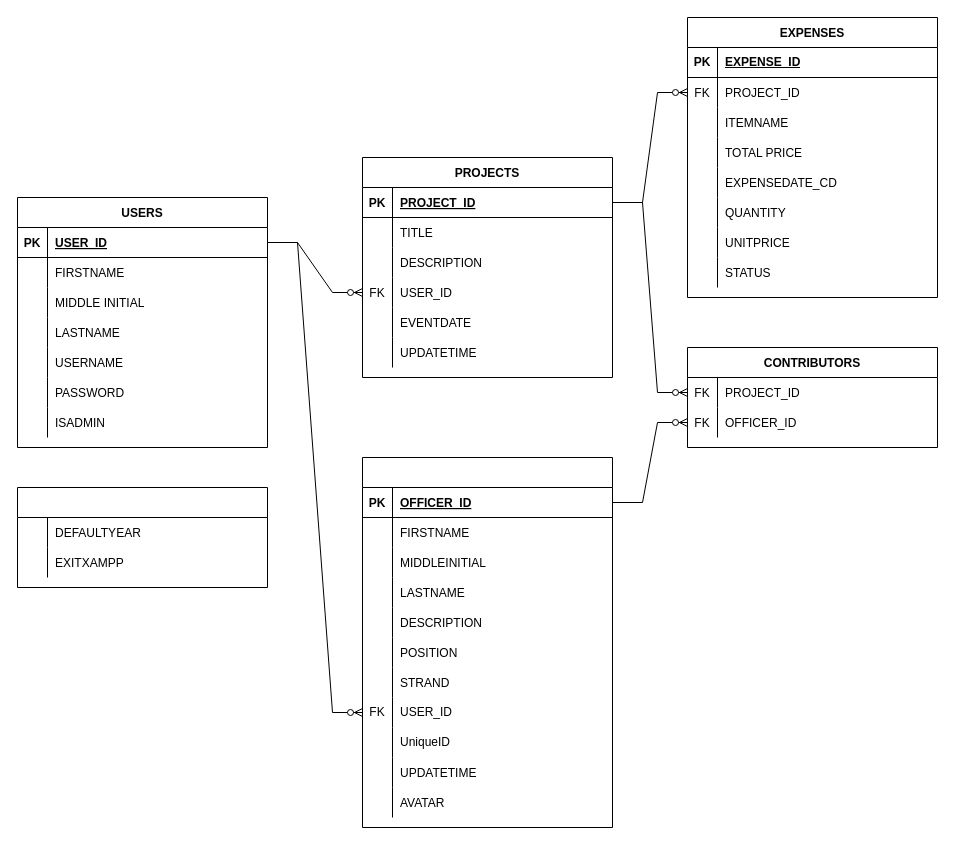
The diagram is 955 pixels wide and 845 high, and some of its shapes have lost their labels. The shapes that lost their labels are listed below. From the top down, each one's box as (x1, y1, x2, y2) in pixels, then its label:
(16, 486, 268, 588): SETTINGS
(362, 456, 612, 828): OFFICERS
